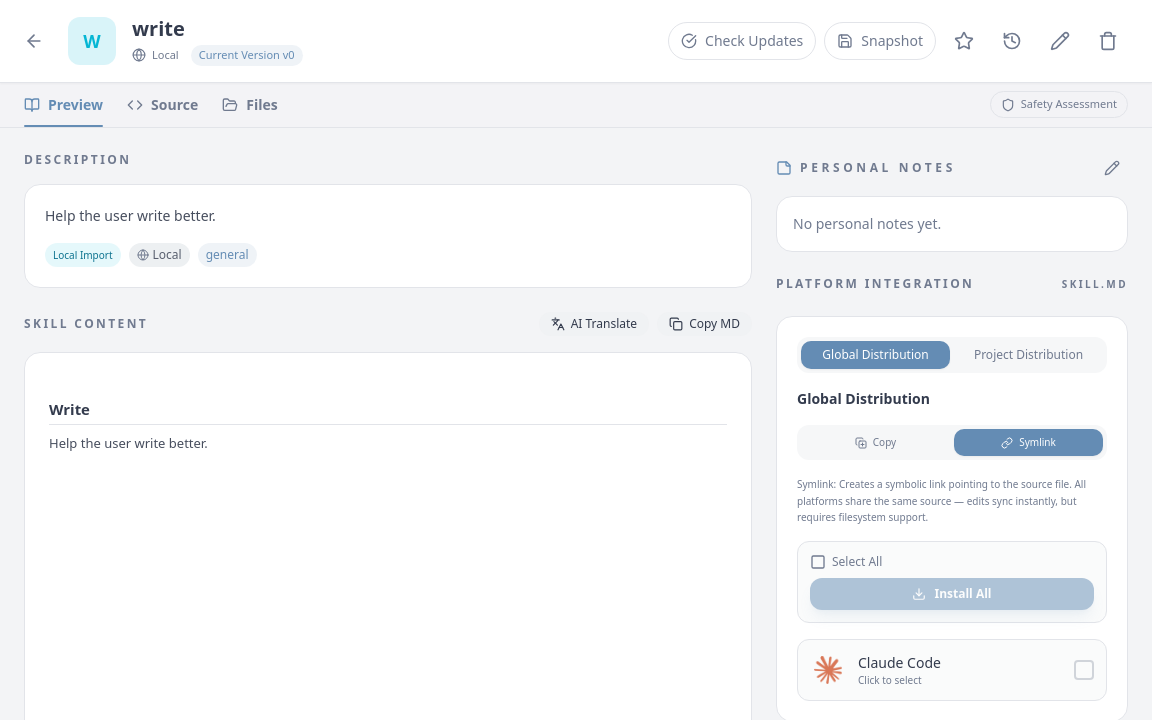
Test case: Skill detail project distribution › does not mention distributed cleanup when deleting an undistributed skill
This screenshot has width=1152, height=720.
Click the button titled "Delete" at (1108, 41), box [1088,21,1128,61]
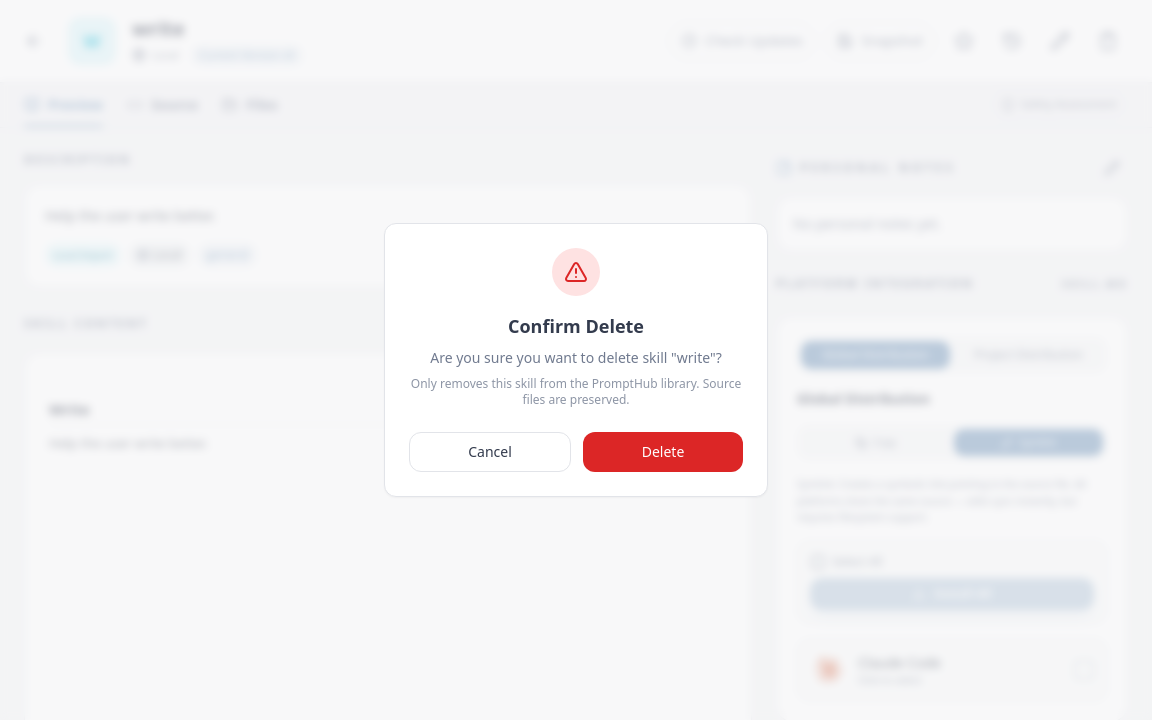
Check: the text "Only removes this skill from the PromptHub library. Source files are preserved." is shown, box [409,376,743,408]
